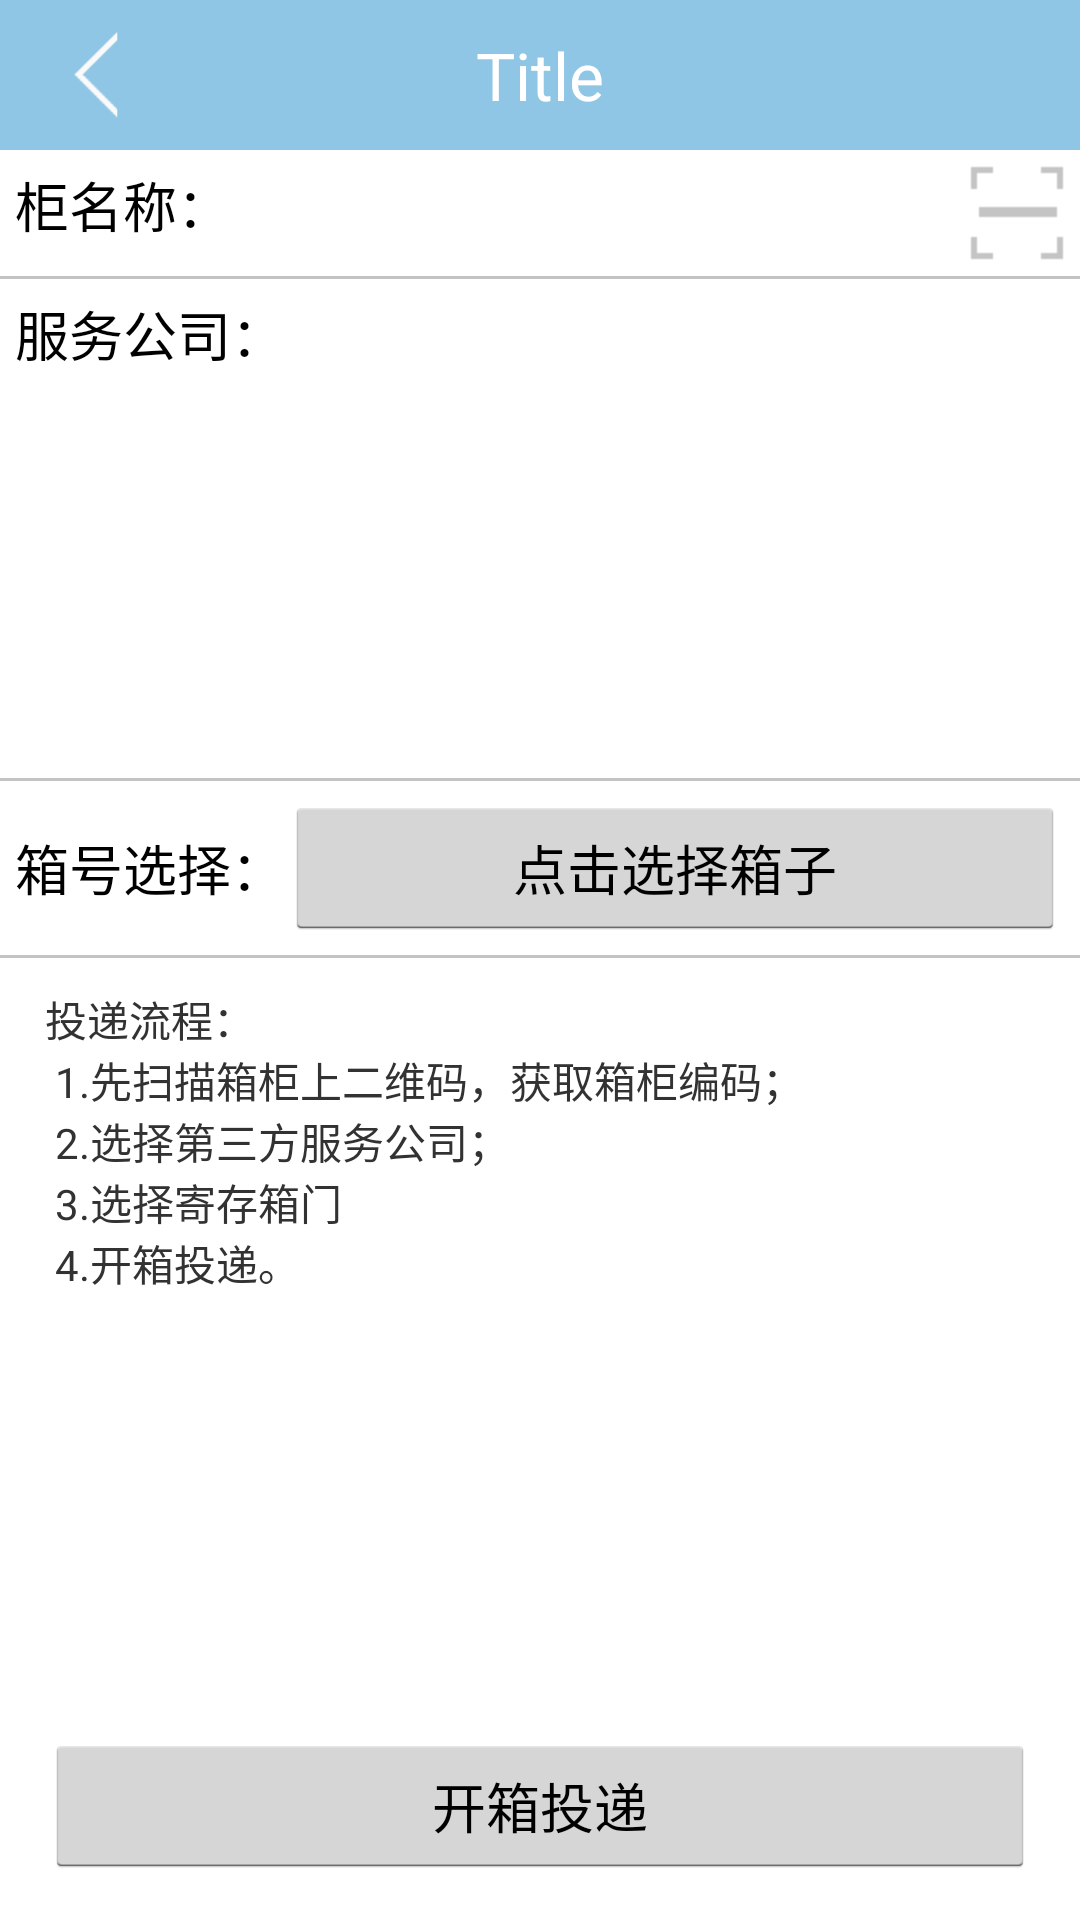

Icon click points for this 1080px×1920px phone screenshot, format (x,y):
back: (96,75)
saoyisao: (1017,213)
